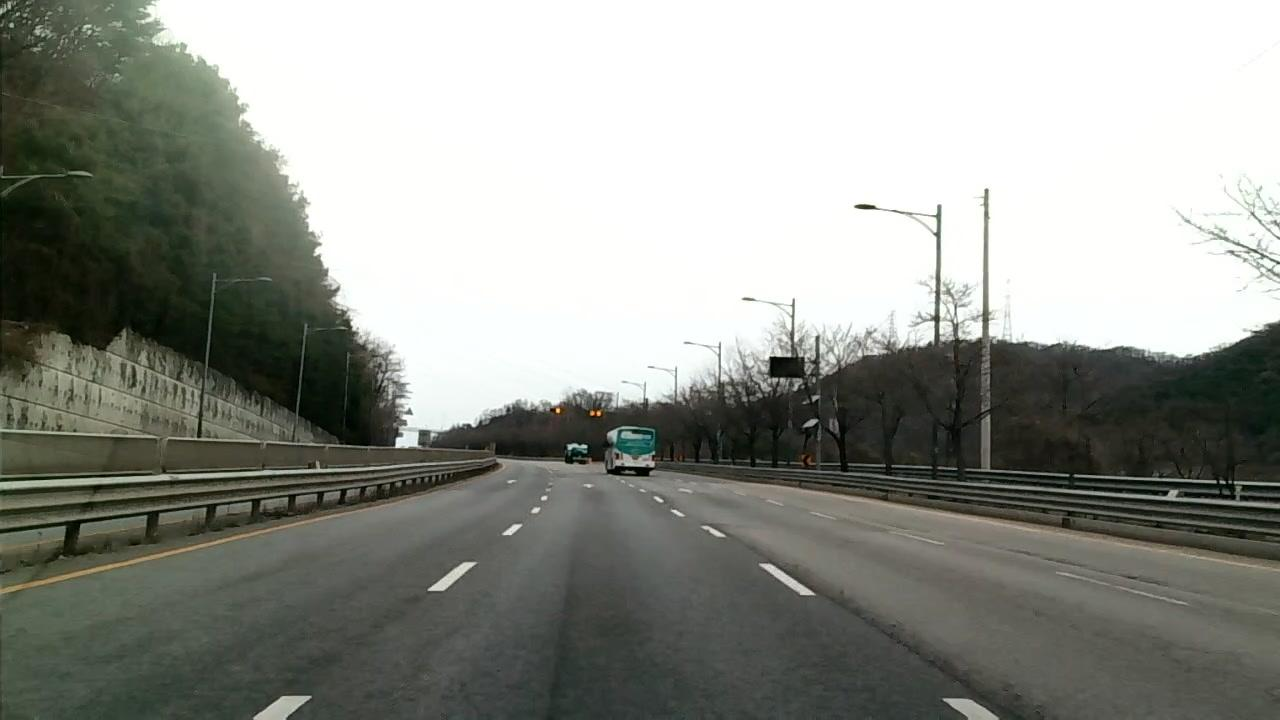vcrack: (755, 550, 1023, 720), (1005, 546, 1182, 593)
